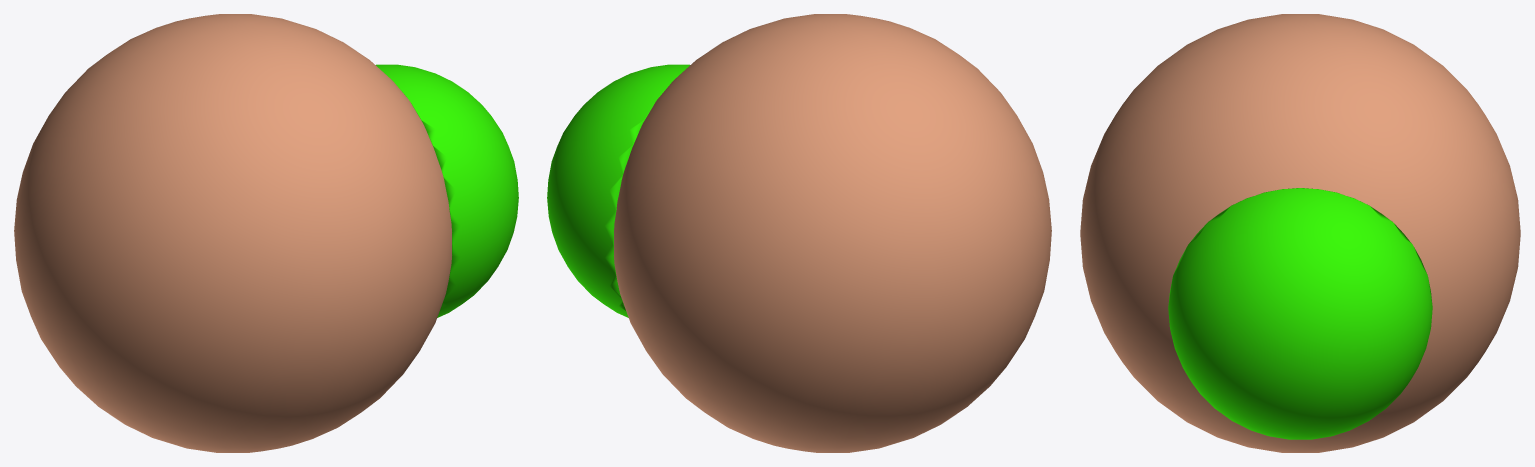
The model's file is divided.glb.
The picture shows the model from 3 angles, left to right: view 1: azimuth 30°, elevation 25°; view 2: azimuth 150°, elevation 25°; view 3: azimuth 270°, elevation 25°; orthographic projection.
Visible parts, largest first — view 1: Rim, Tumor fora de Rim; view 2: Rim, Tumor fora de Rim; view 3: Rim, Tumor fora de Rim.
Boxes of the visible parts, x1,y1,x2,y2 form: Rim: [14, 14, 451, 452]; Tumor fora de Rim: [376, 64, 518, 317]; Rim: [614, 14, 1051, 452]; Tumor fora de Rim: [547, 64, 689, 317]; Rim: [1080, 14, 1520, 452]; Tumor fora de Rim: [1168, 188, 1432, 439].
Bounding box in the file's own units: 24 × 20 × 20.
